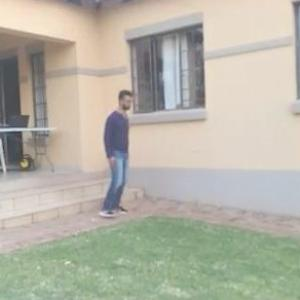follow: (106, 88, 141, 211)
